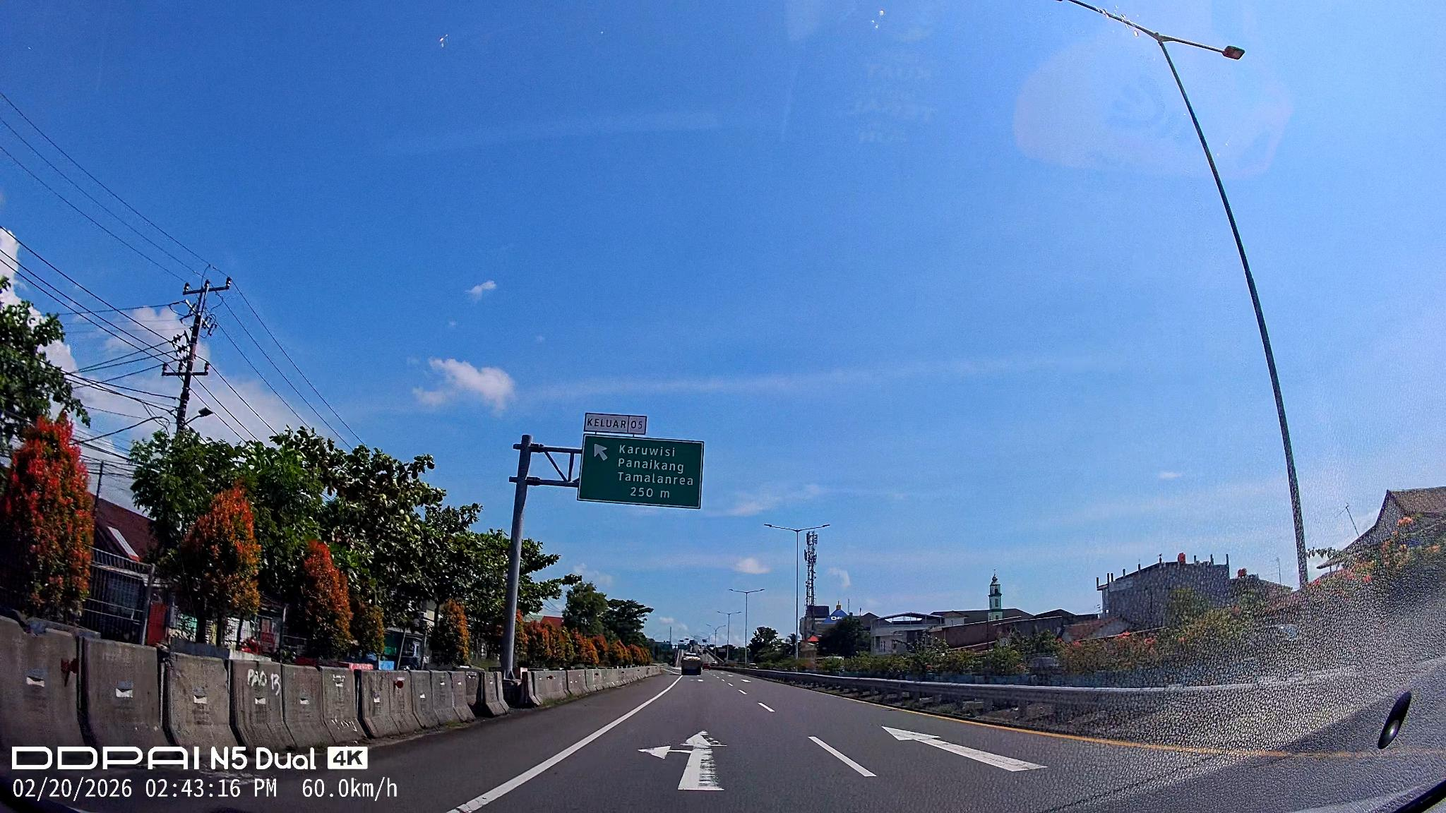rambu_teks: (577, 433, 706, 510)
